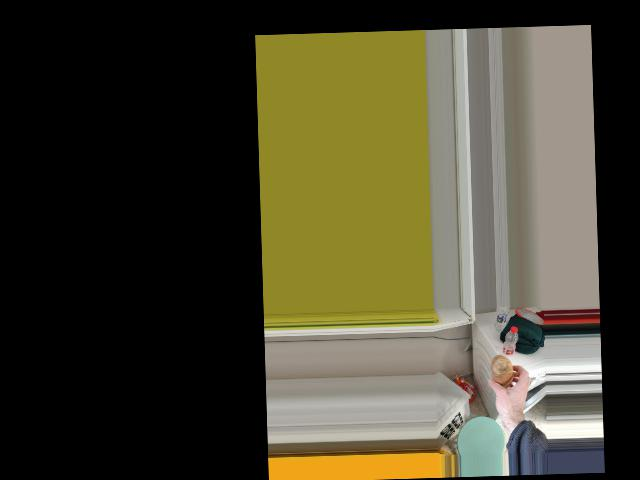sweet_potato: (486, 352, 516, 391)
